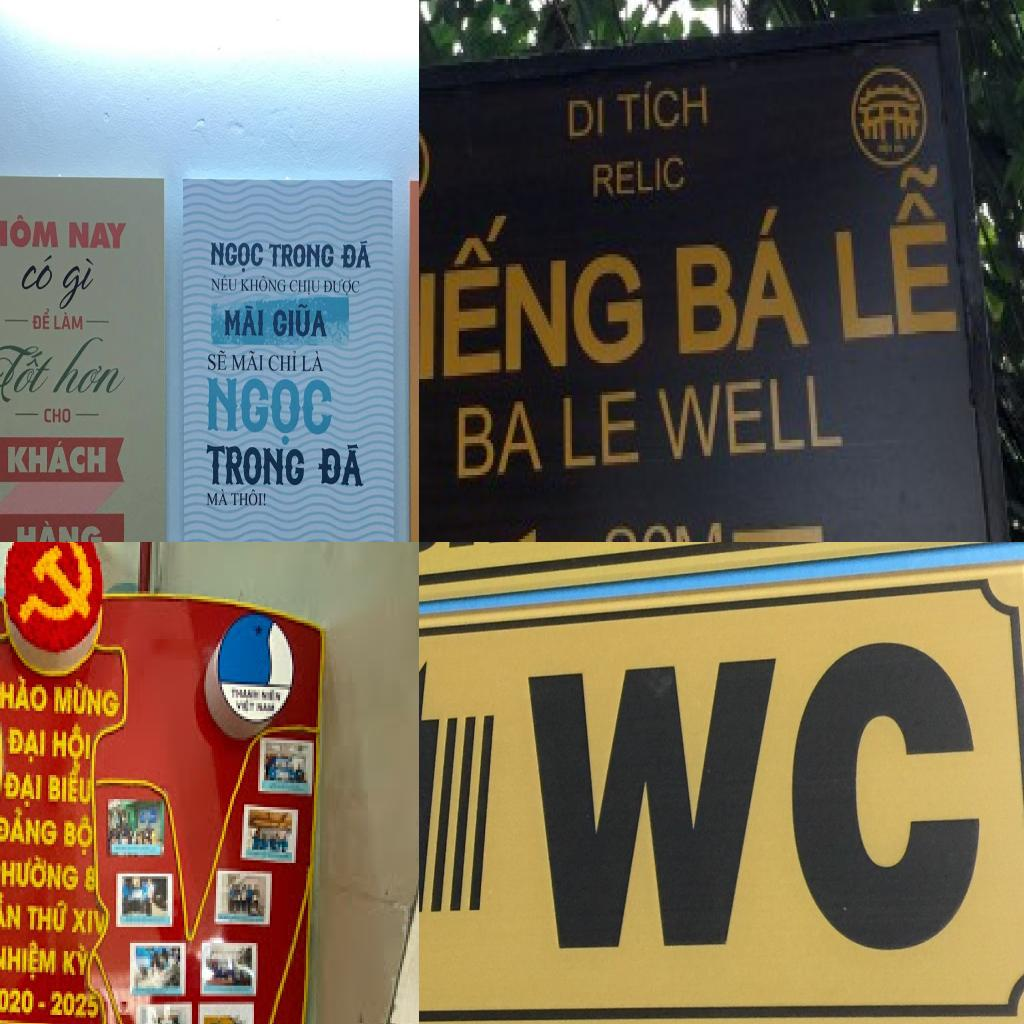text: (419, 216, 649, 395), (826, 155, 962, 344), (674, 200, 813, 356), (651, 372, 845, 466), (205, 375, 335, 447), (559, 385, 647, 475), (455, 398, 544, 478), (615, 72, 717, 139), (587, 148, 687, 210), (48, 335, 142, 398), (205, 443, 309, 489), (5, 436, 109, 478), (0, 337, 61, 407), (0, 849, 82, 897), (52, 676, 124, 722), (0, 804, 60, 852), (0, 937, 58, 985), (54, 256, 100, 312), (0, 211, 61, 253), (0, 668, 50, 716), (316, 442, 364, 490), (566, 91, 608, 145), (67, 218, 129, 254), (14, 518, 107, 542), (50, 722, 96, 770), (46, 764, 96, 807), (270, 302, 328, 338), (267, 240, 335, 270), (6, 722, 50, 767), (2, 764, 42, 812), (209, 240, 265, 274), (26, 892, 70, 935), (62, 810, 96, 860), (52, 988, 102, 1020), (224, 304, 266, 340), (19, 256, 57, 293), (70, 903, 108, 938), (62, 943, 94, 983), (338, 238, 372, 272), (0, 887, 24, 935), (0, 985, 36, 1017), (240, 274, 288, 294), (230, 488, 268, 509), (52, 310, 88, 332), (268, 348, 298, 374), (324, 276, 362, 296), (231, 350, 265, 372), (44, 405, 72, 426), (289, 278, 321, 296), (300, 350, 324, 374), (84, 860, 100, 895), (29, 307, 51, 332), (206, 348, 228, 372), (205, 487, 229, 508), (210, 274, 237, 292), (230, 687, 260, 700), (256, 700, 278, 716), (236, 700, 256, 716), (262, 690, 284, 703), (38, 999, 48, 1010)
